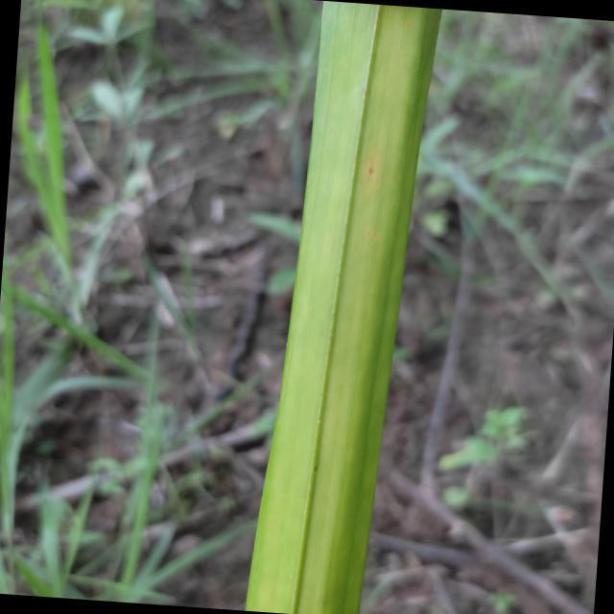nitrogen: (237, 0, 441, 614)
